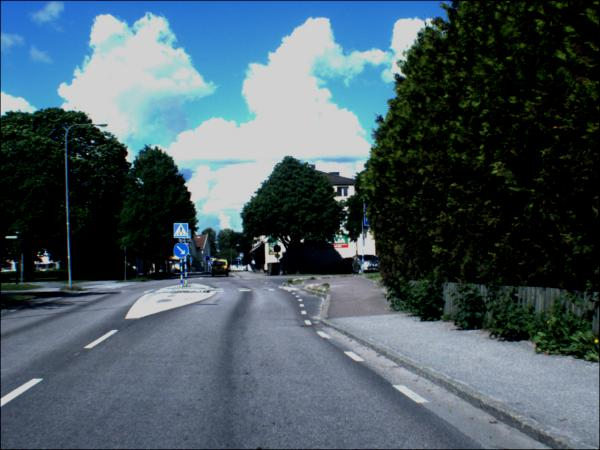NO_STOPPING_NO_STANDING: (275, 246, 283, 254)
PASS_RIGHT_SIDE: (175, 245, 191, 261), (210, 261, 215, 266), (207, 257, 211, 262)
PEDESTRIAN_CROSSING: (175, 224, 190, 240), (149, 253, 156, 260), (241, 254, 246, 259), (238, 259, 242, 263)
PRIORITY_ROAD: (276, 255, 283, 261)
